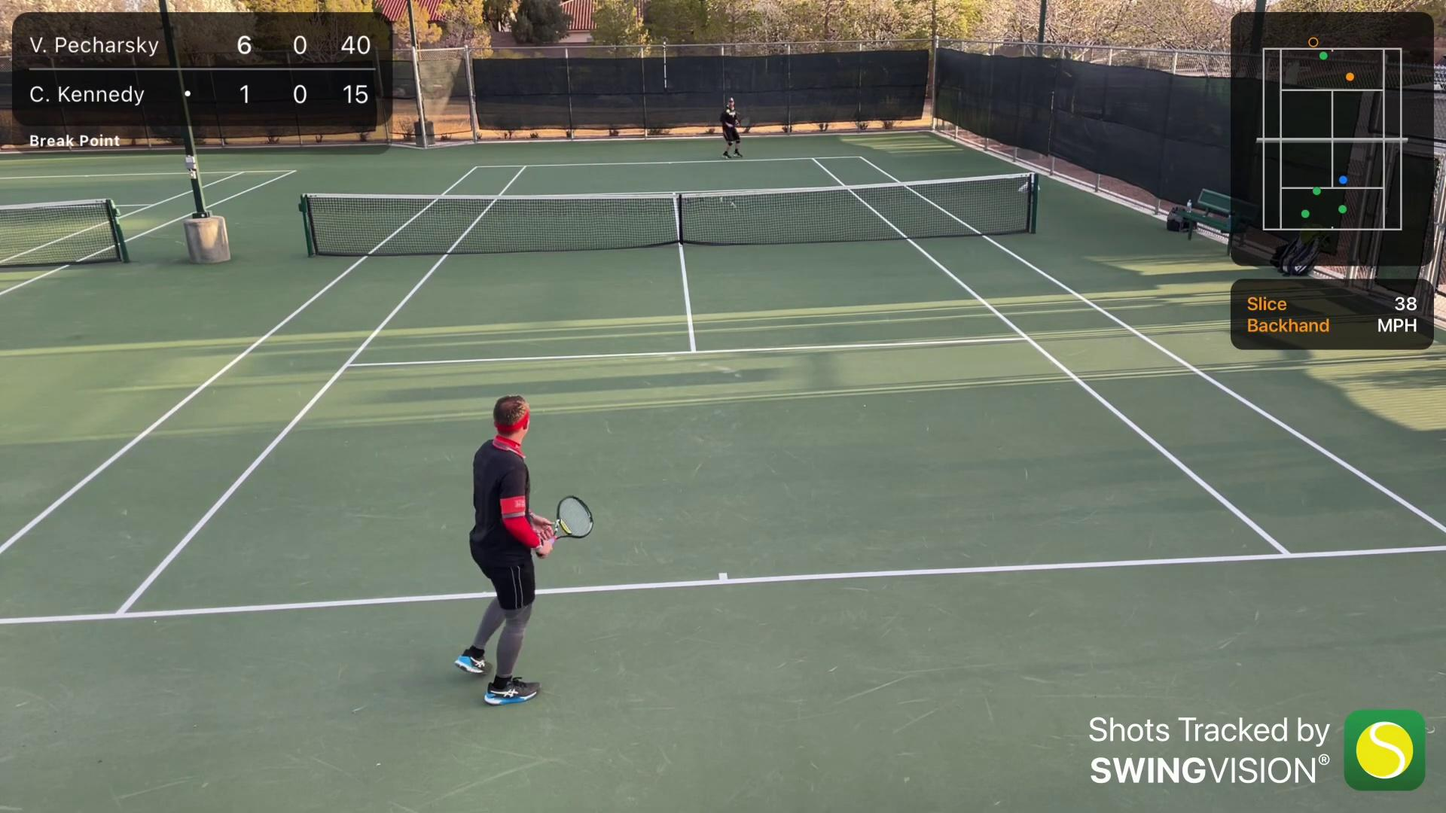ball: (726, 109, 731, 114)
